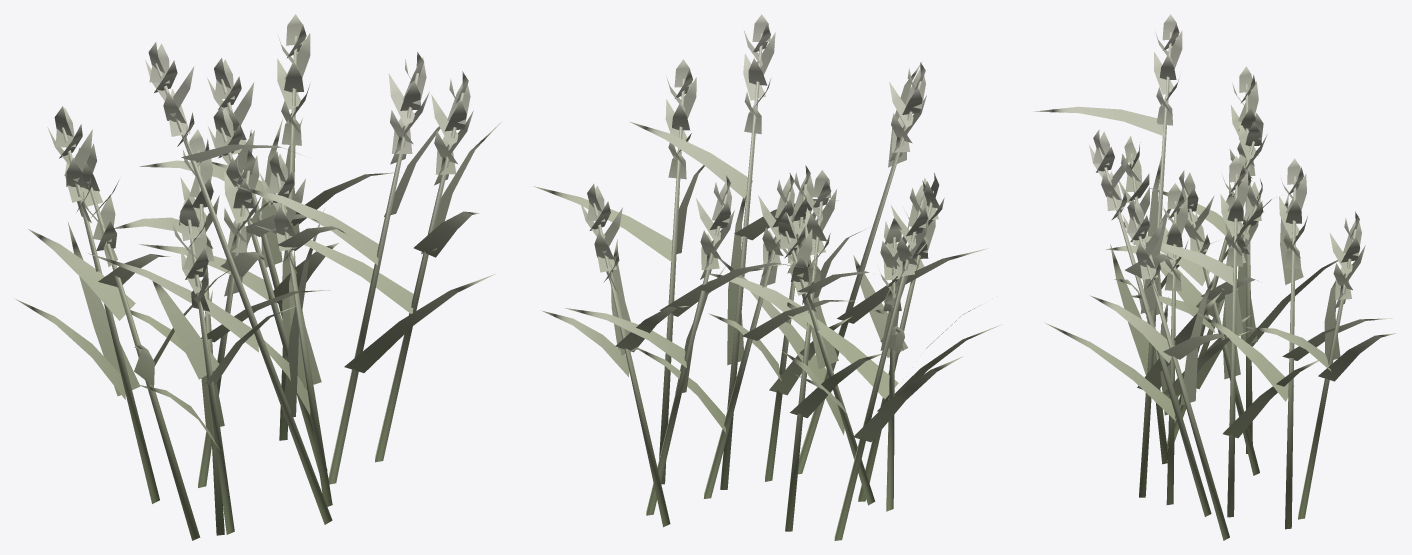
Rendered from plume_grass.glb.
The picture shows the model from 3 angles, left to right: view 1: azimuth 30°, elevation 25°; view 2: azimuth 150°, elevation 25°; view 3: azimuth 270°, elevation 25°; orthographic projection. The views are drawn at different scales.
Parts seen in each view (by area): view 1: plume_grass; view 2: plume_grass; view 3: plume_grass.
Boxes of the visible parts, left/top/right/bottom form: plume_grass: left=14, top=14, right=501, bottom=540; plume_grass: left=534, top=14, right=1002, bottom=540; plume_grass: left=1034, top=14, right=1395, bottom=540.
Bounding box in the file's own units: 1.63 × 1.63 × 1.27.
